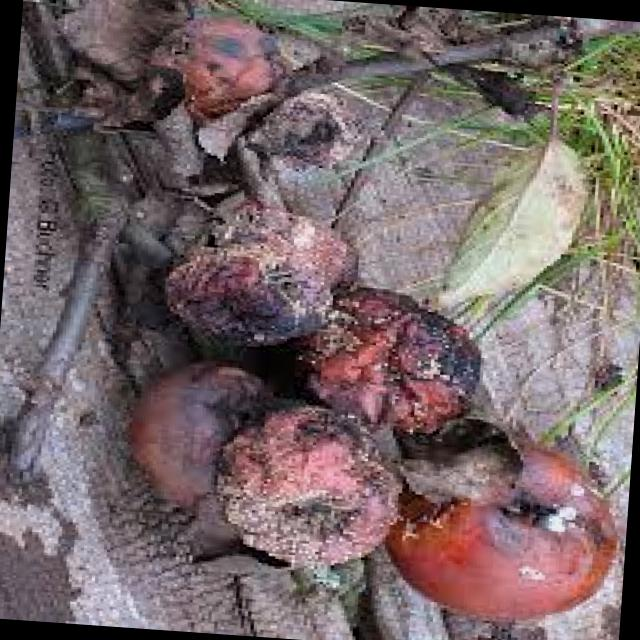organic: (218, 282, 485, 580), (375, 437, 618, 626), (176, 204, 365, 386), (77, 0, 294, 155)
